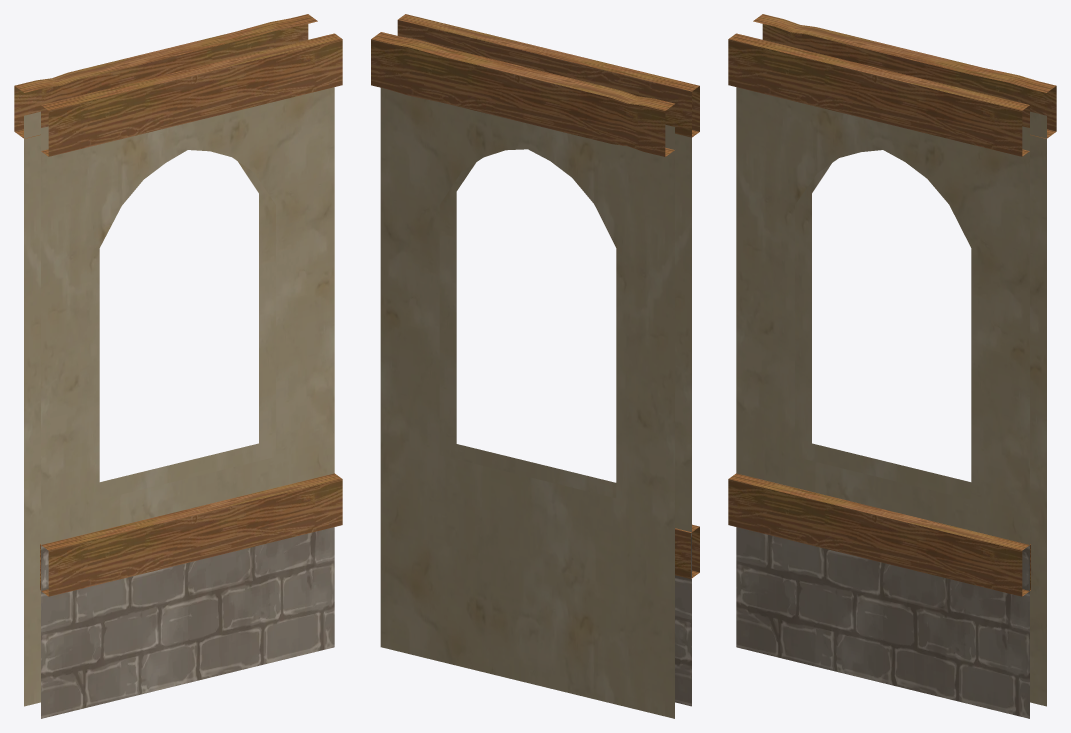
File: med-reboco-janela.gltf
The picture shows the model from 3 angles, left to right: view 1: azimuth 30°, elevation 25°; view 2: azimuth 150°, elevation 25°; view 3: azimuth 330°, elevation 25°; orthographic projection.
Parts seen in each view (by area): view 1: Wall_Plaster_Window_Wide_Round; view 2: Wall_Plaster_Window_Wide_Round; view 3: Wall_Plaster_Window_Wide_Round.
Boxes of the visible parts, x1,y1,x2,y2 form: Wall_Plaster_Window_Wide_Round: [14, 14, 342, 718]; Wall_Plaster_Window_Wide_Round: [371, 14, 699, 718]; Wall_Plaster_Window_Wide_Round: [728, 14, 1056, 718].
Size of the model in its own units: 1 by 2 by 0.2032.
3 materials, 3 textured.
